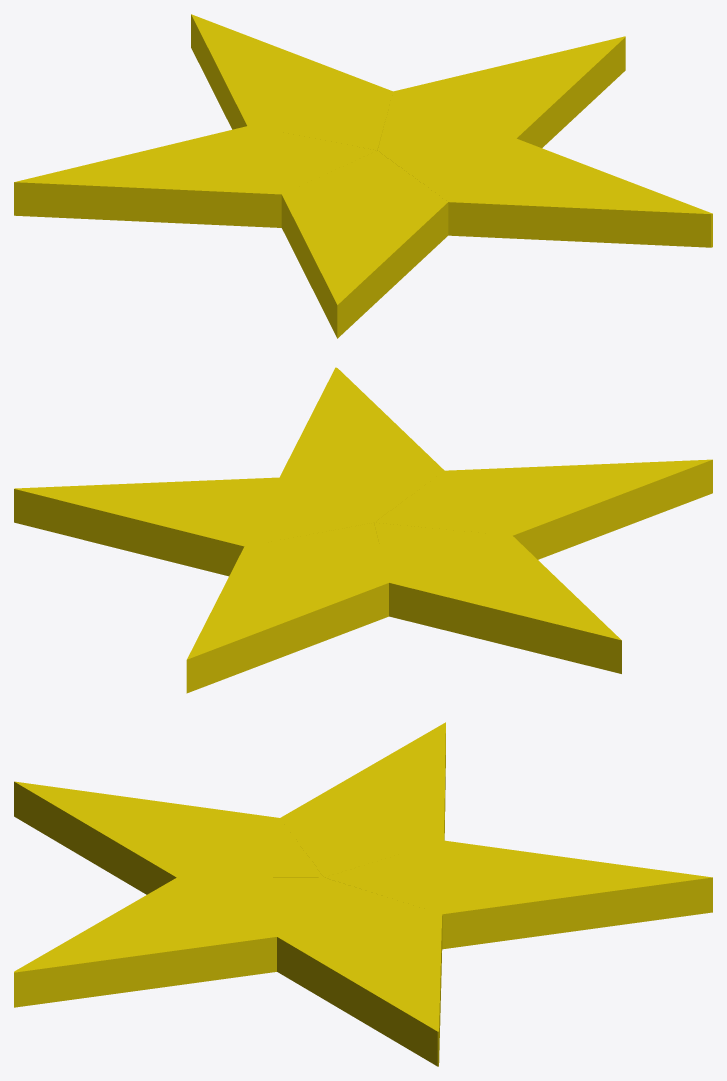
Rendered from star_2d.fbx.
The picture shows the model from 3 angles, top to bottom: view 1: azimuth 30°, elevation 25°; view 2: azimuth 150°, elevation 25°; view 3: azimuth 270°, elevation 25°; orthographic projection. The views are drawn at different scales.
Visible parts, largest first — view 1: Circle.001; view 2: Circle.001; view 3: Circle.001.
Boxes of the visible parts, left/top/right/bottom form: Circle.001: left=14, top=14, right=712, bottom=338; Circle.001: left=14, top=367, right=712, bottom=693; Circle.001: left=14, top=722, right=712, bottom=1066.
Size of the model in its own units: 190 by 10 by 181.
